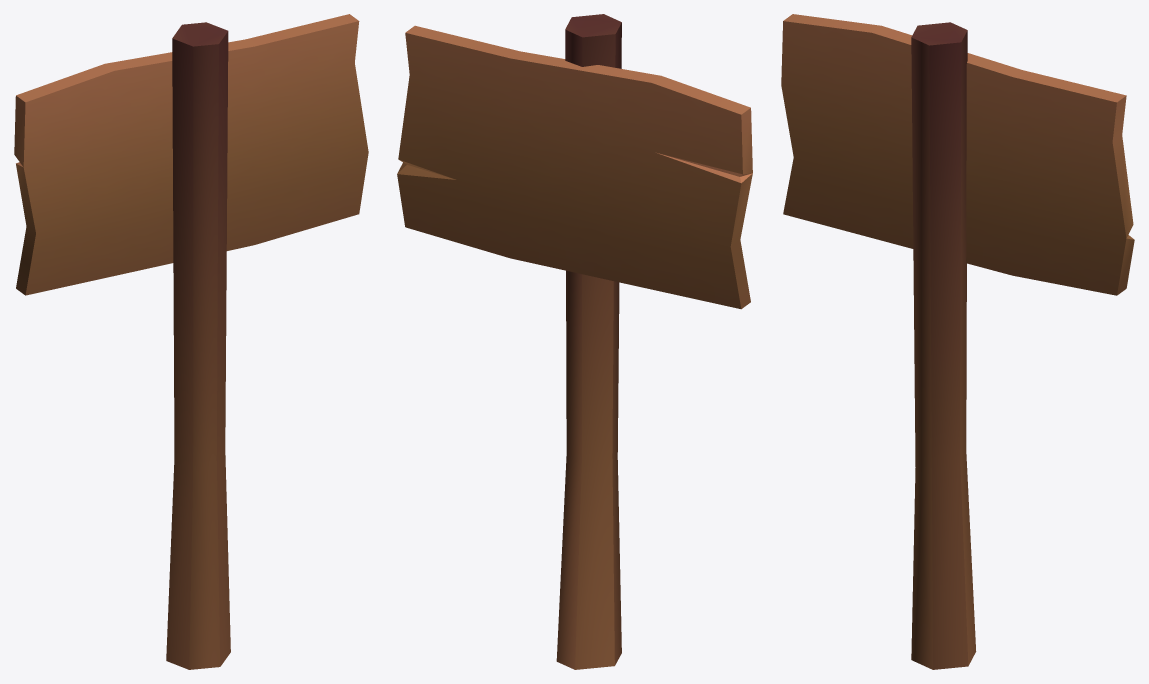
File: WoodenSign01.fbx
3 renders of one model, left to right at view 1: azimuth 30°, elevation 25°; view 2: azimuth 150°, elevation 25°; view 3: azimuth 330°, elevation 25°, orthographic.
Visible parts, largest first — view 1: WoodenSign; view 2: WoodenSign; view 3: WoodenSign.
Part boxes in pixels (<box>): WoodenSign: <box>14,14,368,669</box>; WoodenSign: <box>397,14,752,669</box>; WoodenSign: <box>781,14,1134,669</box>.
Size of the model in its own units: 59.94 by 104 by 10.44.
